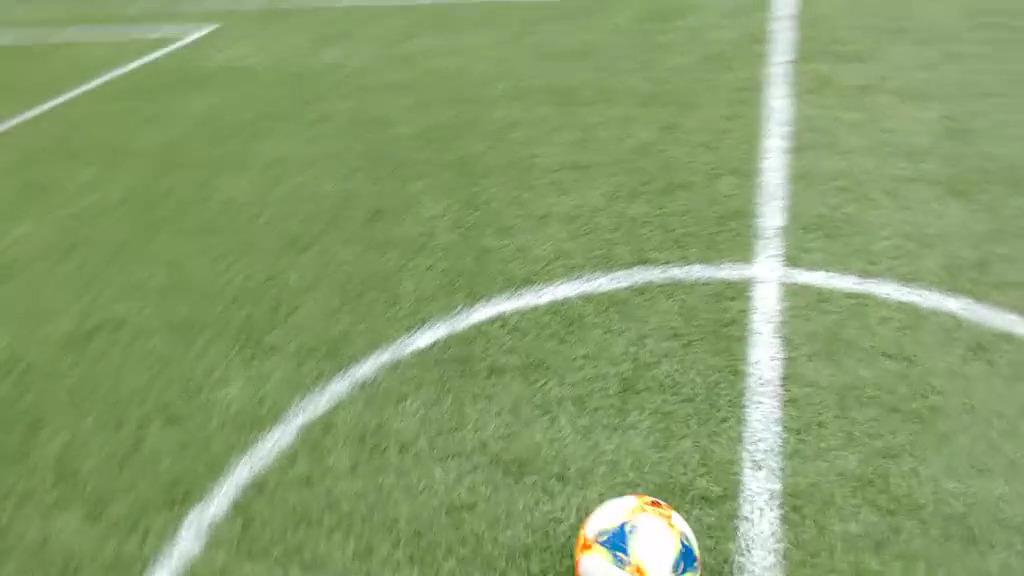ball: (577, 496, 703, 576)
